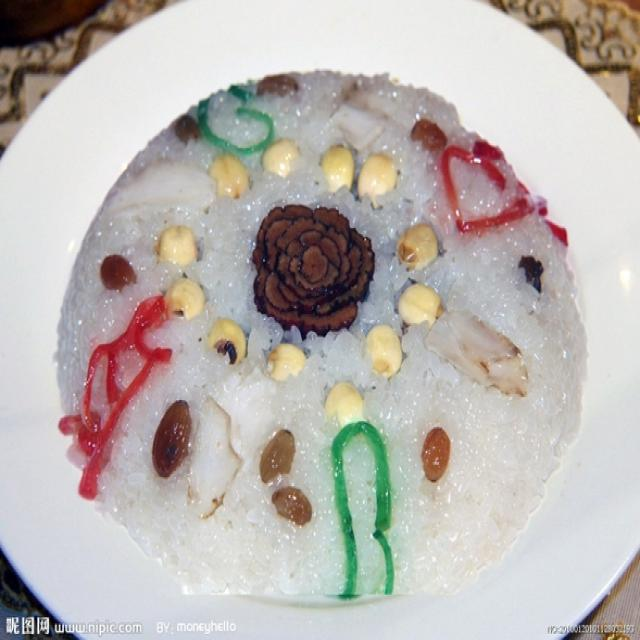米饭主食: (32, 42, 603, 610)
